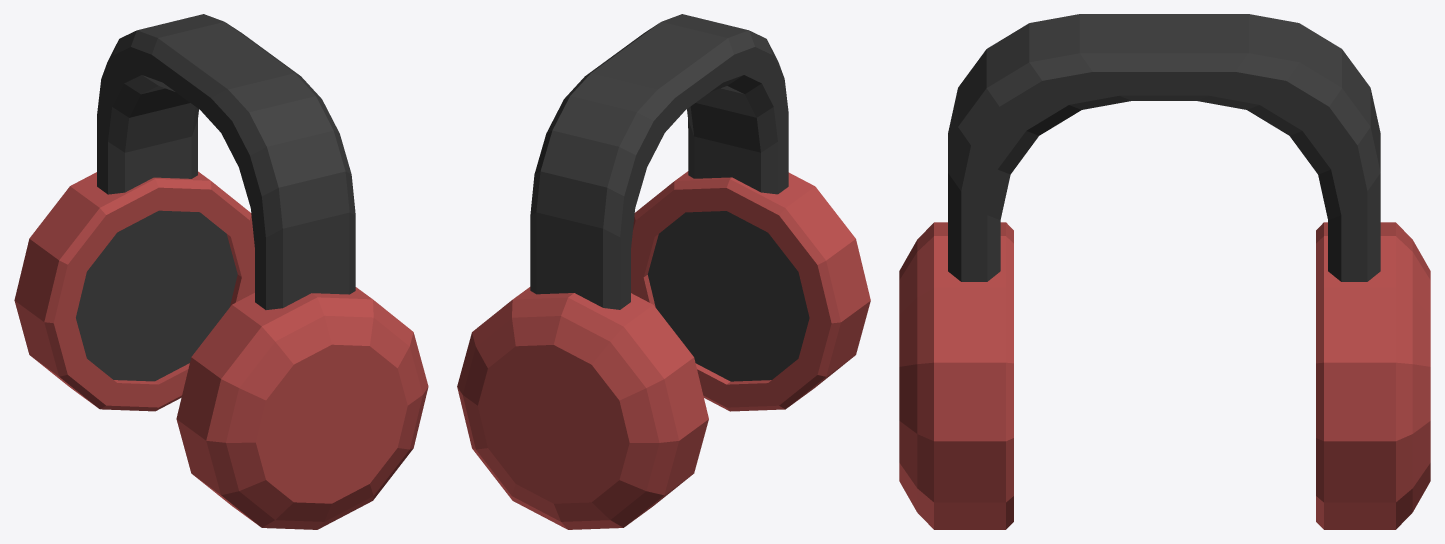
The model's file is Headphones.glb.
3 renders of one model, left to right at view 1: azimuth 30°, elevation 25°; view 2: azimuth 150°, elevation 25°; view 3: azimuth 270°, elevation 25°, orthographic. The views are drawn at different scales.
Visible parts, largest first — view 1: Headphones; view 2: Headphones; view 3: Headphones.
Boxes of the visible parts, left/top/right/bottom form: Headphones: left=14, top=14, right=428, bottom=529; Headphones: left=457, top=14, right=870, bottom=529; Headphones: left=899, top=14, right=1430, bottom=529.
Size of the model in its own units: 0.1078 by 0.1868 by 0.1854.
